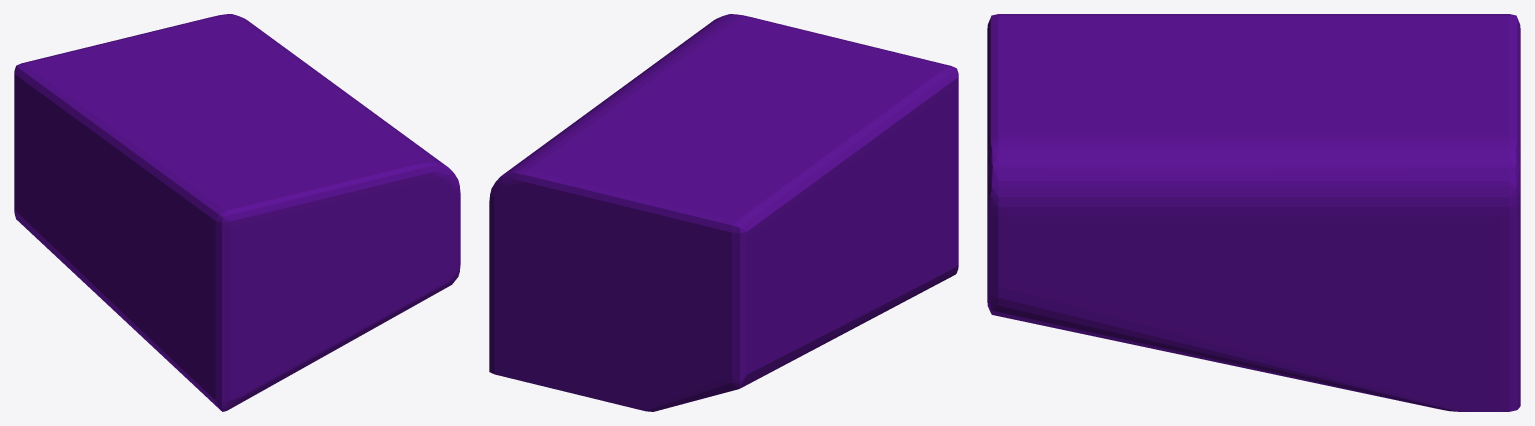
The model's file is right_palm_part_27.obj.
The picture shows the model from 3 angles, left to right: view 1: azimuth 30°, elevation 25°; view 2: azimuth 150°, elevation 25°; view 3: azimuth 270°, elevation 25°; orthographic projection. The views are drawn at different scales.
Bounding box in the file's own units: 21.65 × 16.69 × 32.12.
